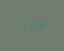nine: (37, 19, 45, 29)
one: (18, 21, 26, 31)
two: (28, 20, 36, 30)
